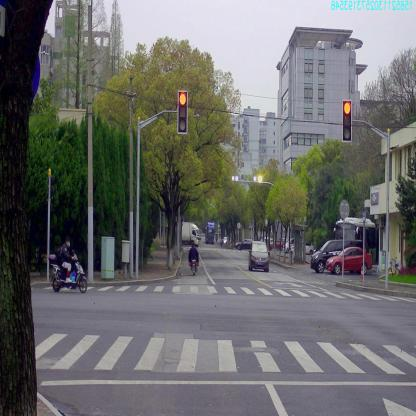traffic-light: (178, 90, 188, 133), (343, 101, 352, 142)
